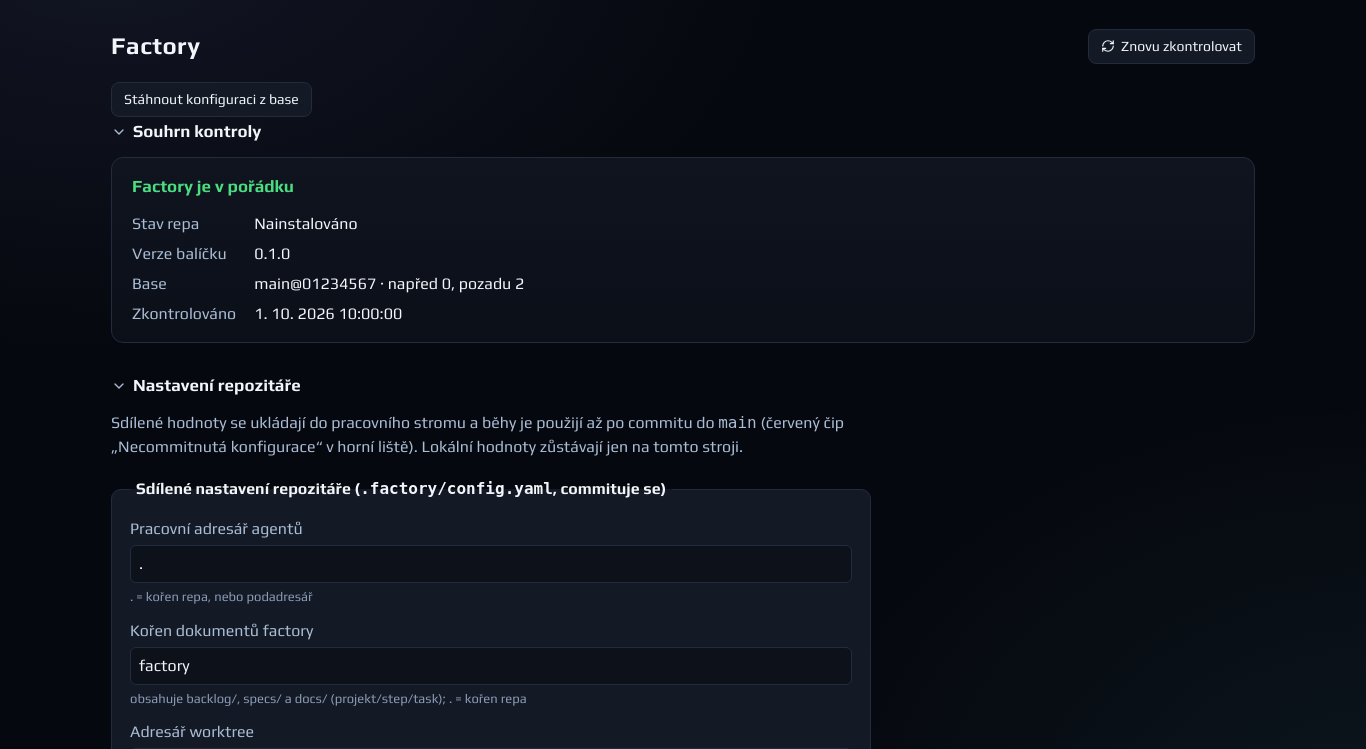
FactoryView › checks again with fresh=1
The image size is (1366, 749).
Click the button with test id "factory-recheck" at (1172, 46), box [1088, 28, 1255, 64]
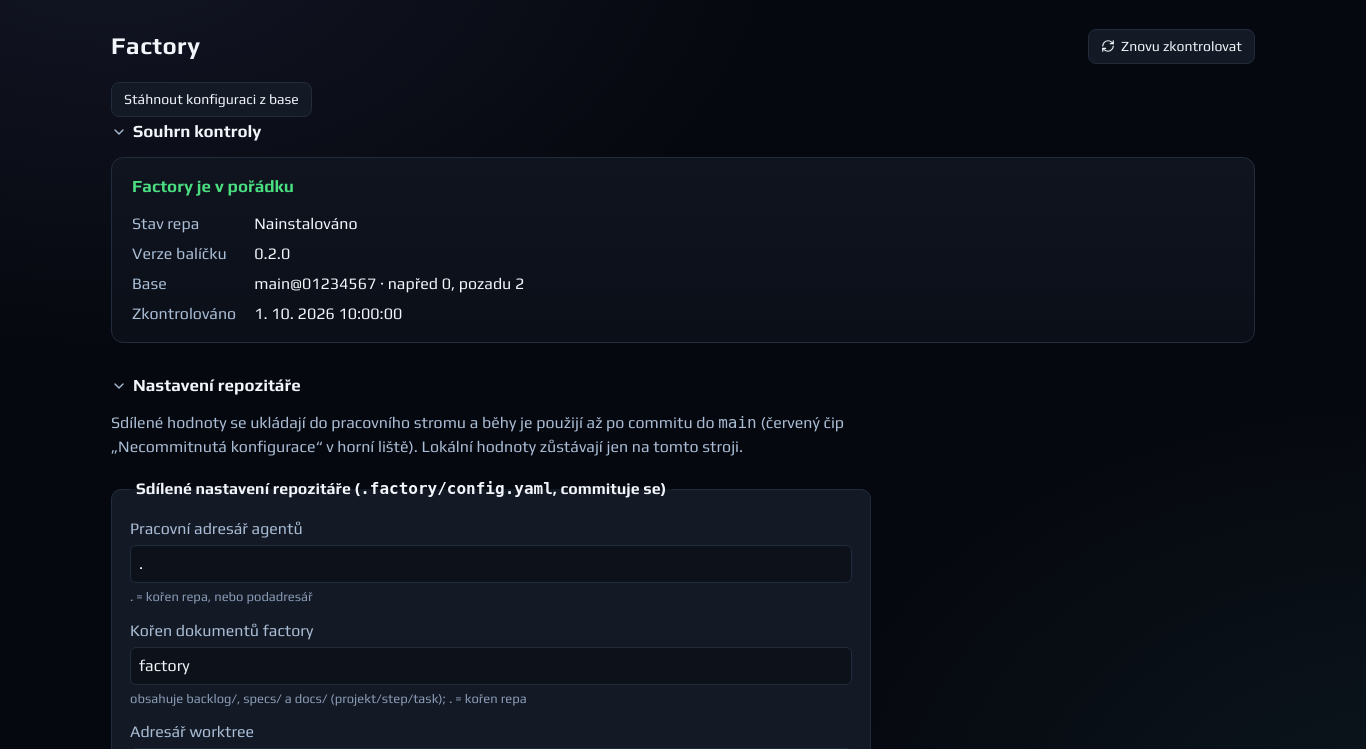
Now the text with test id "factory-version" reads "0.2.0", box [254, 244, 290, 263]
